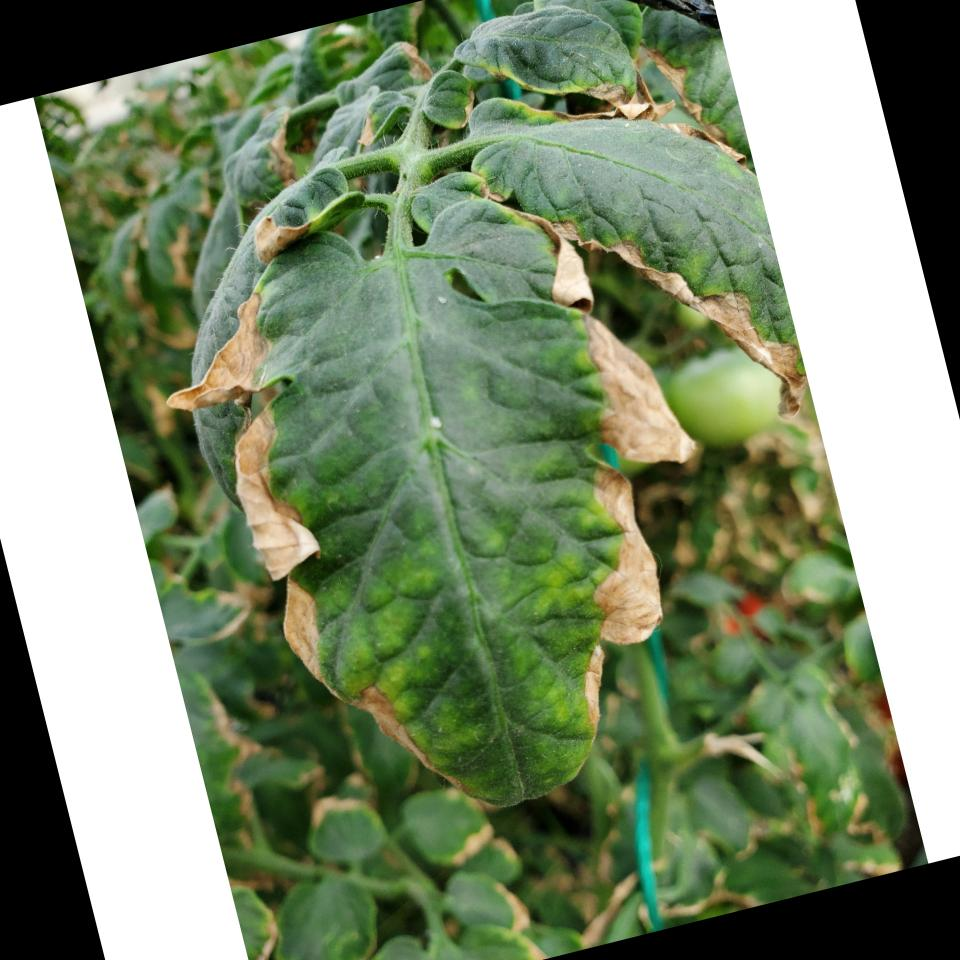tomato_bacterial_blight: (148, 167, 776, 868)
